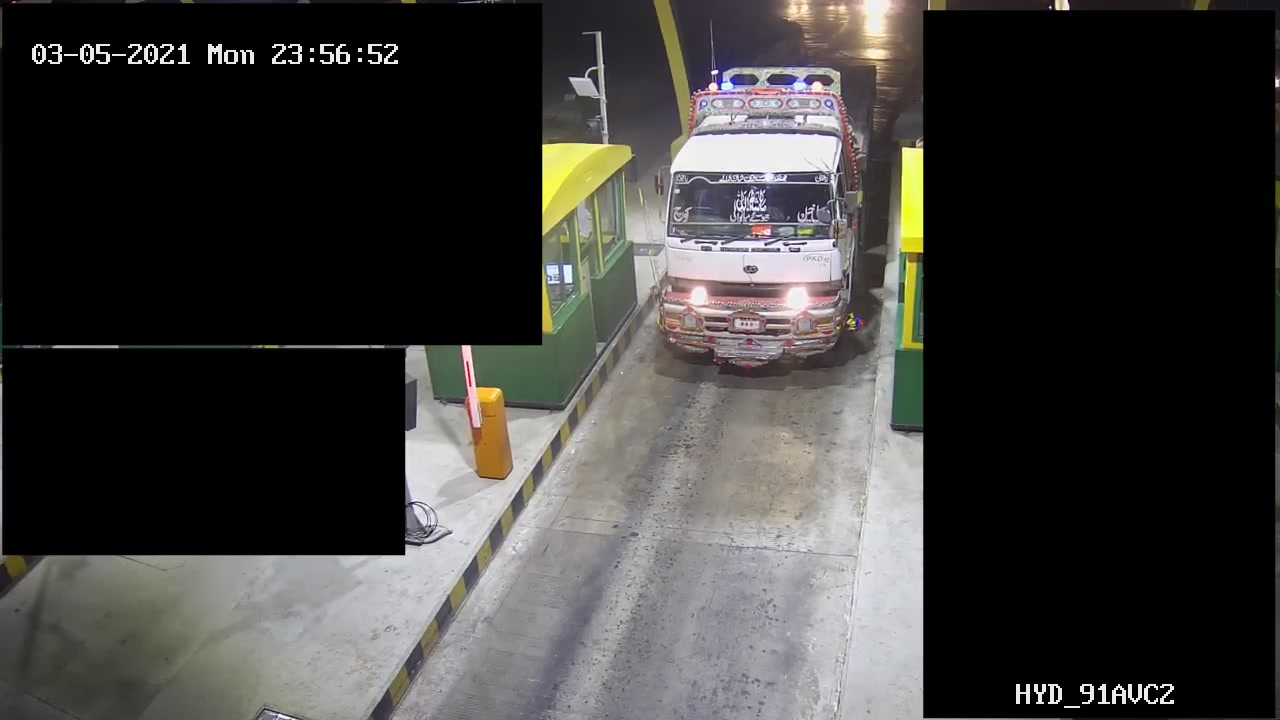F6: (644, 57, 879, 377)
